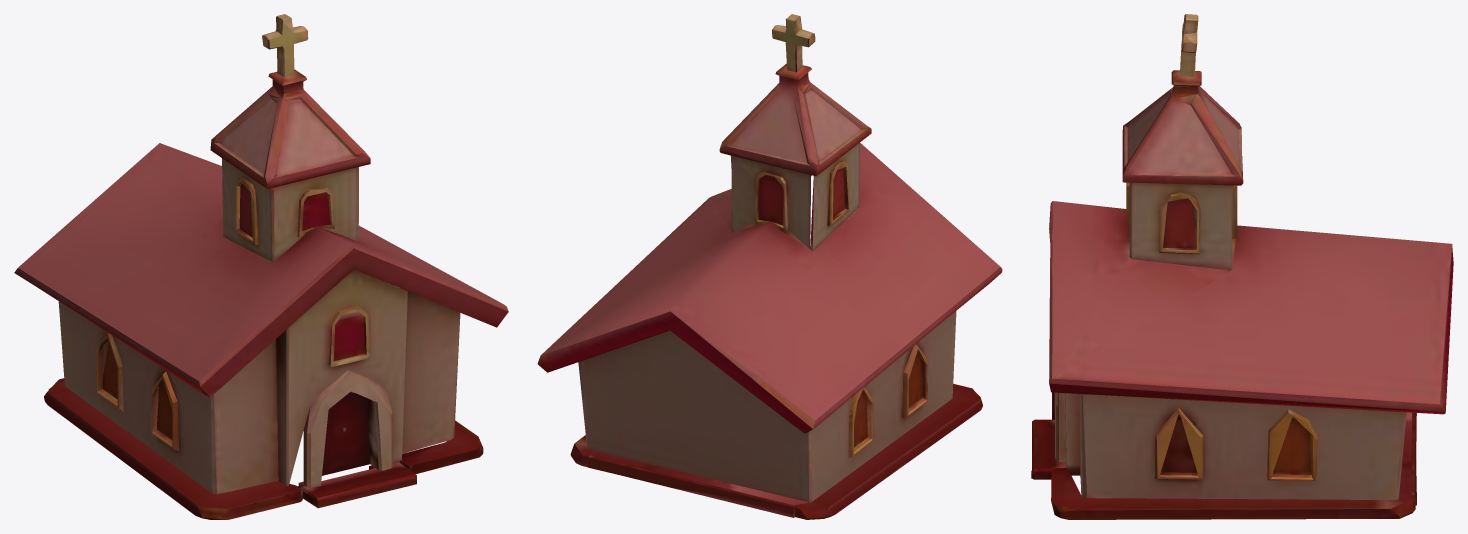
Rendered from gereja_1_lod2.glb.
3 renders of one model, left to right at view 1: azimuth 30°, elevation 25°; view 2: azimuth 150°, elevation 25°; view 3: azimuth 270°, elevation 25°, orthographic. The views are drawn at different scales.
Visible parts, largest first — view 1: tripo_node_458c0969; view 2: tripo_node_458c0969; view 3: tripo_node_458c0969.
Part boxes in pixels (bbox=[...]): tripo_node_458c0969: bbox=[14, 14, 508, 519]; tripo_node_458c0969: bbox=[537, 14, 1002, 519]; tripo_node_458c0969: bbox=[1031, 14, 1453, 519].
Size of the model in its own units: 0.7595 by 1 by 0.8787.
Materials: 1 (1 with a texture image).
